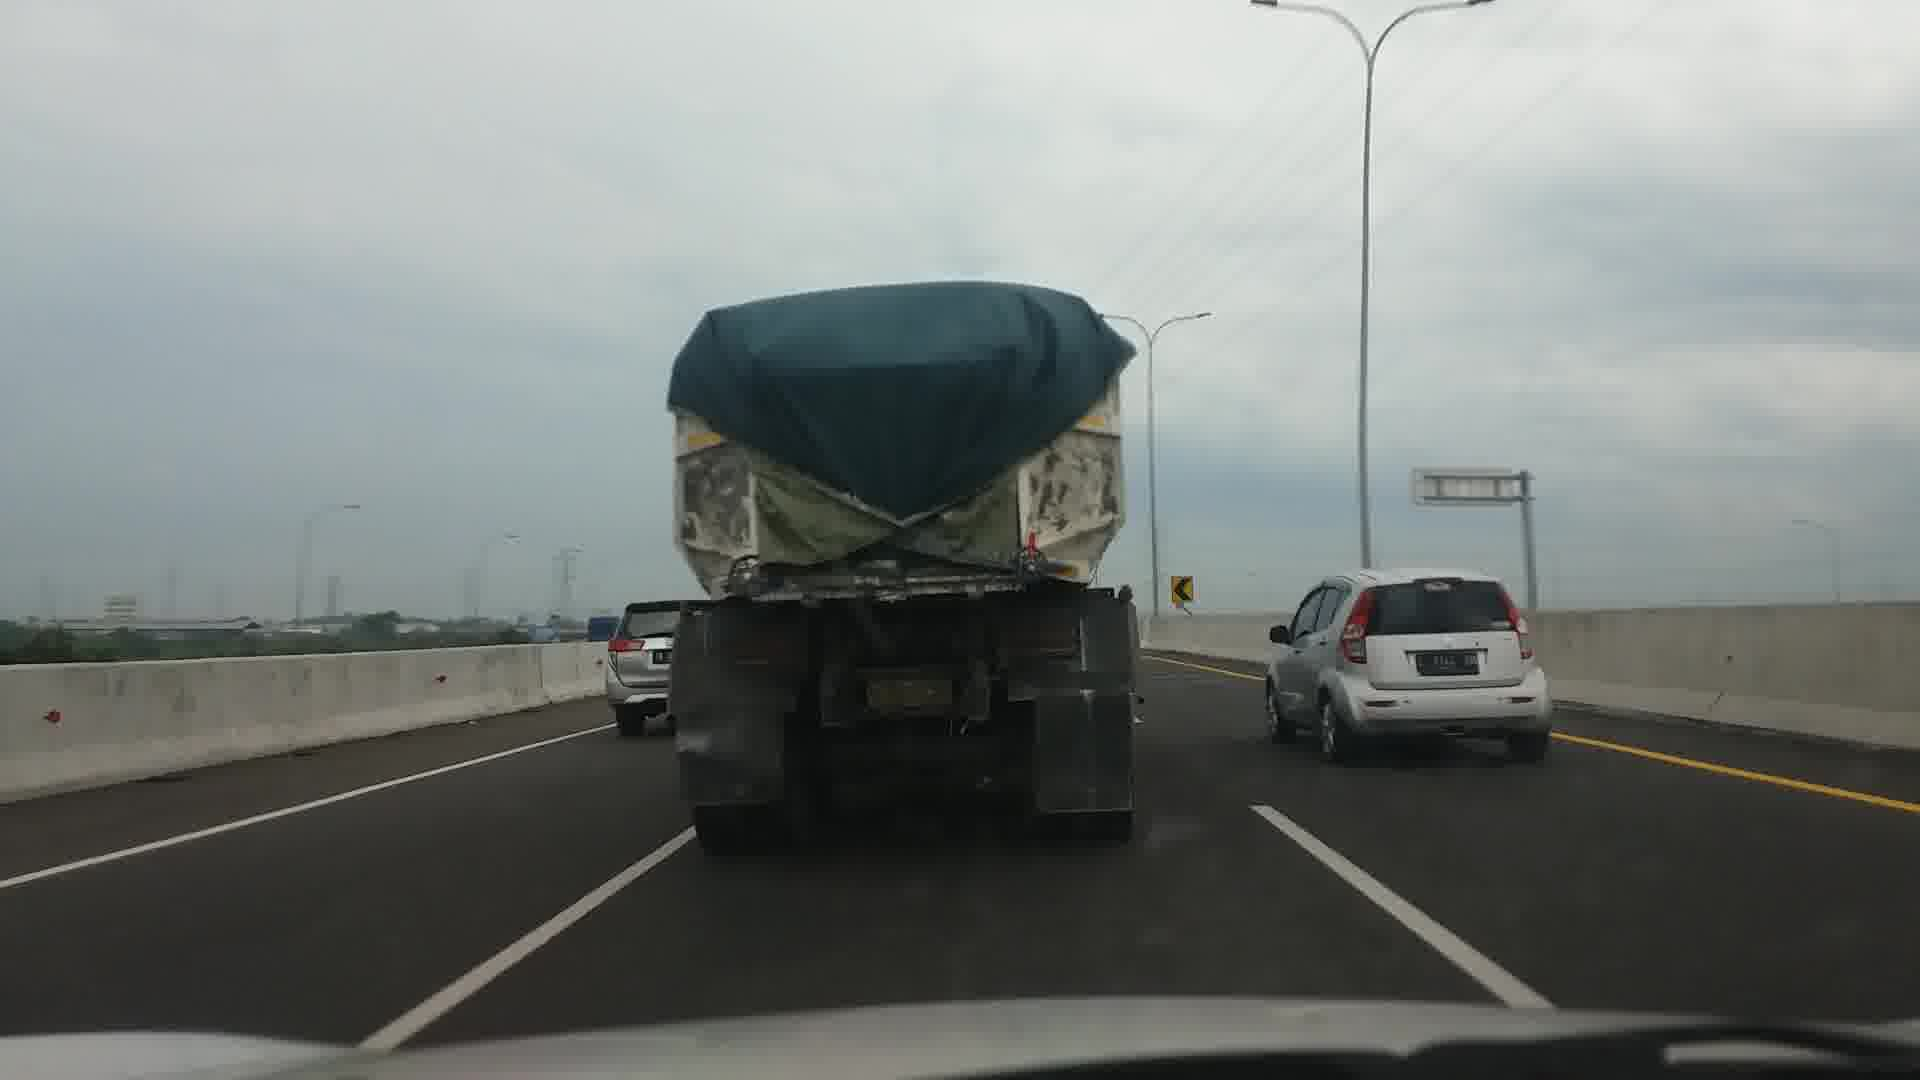plate_positive: (866, 678, 953, 705), (1415, 651, 1480, 676)
